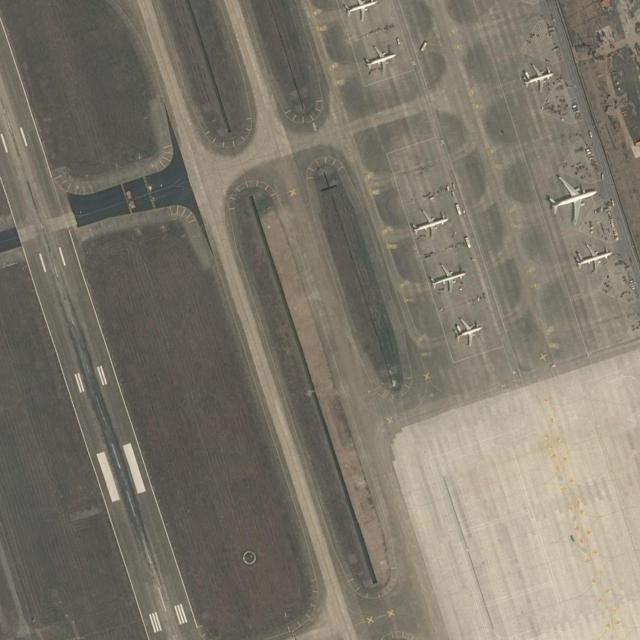Aircraft: (544, 173, 596, 218), (406, 207, 448, 238), (443, 318, 487, 346), (573, 243, 611, 273), (520, 64, 558, 94), (431, 263, 467, 293), (365, 47, 396, 73), (341, 0, 379, 21)
